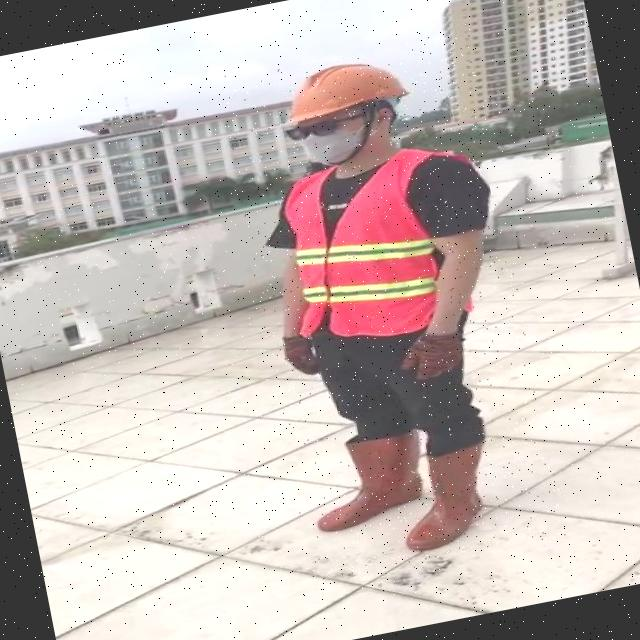boots: (304, 429, 432, 534), (390, 442, 500, 554)
helmet: (274, 51, 408, 128)
vest: (274, 146, 470, 348)
